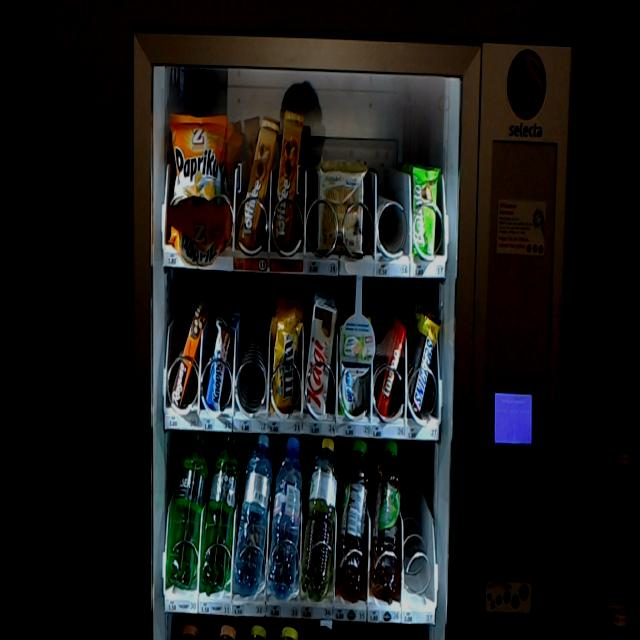balisto_muesli__37g__5000159418546: (408, 161, 440, 263)
berger_mailaenderli____7610404550006: (315, 158, 366, 254)
darwida_sandwich____7610032065170: (338, 315, 374, 425)
evian___50__3068320353500: (268, 429, 303, 599)
kagi___50__7610046000259: (302, 302, 336, 416)
knoppers_riegel____4035800488808: (199, 314, 232, 414)
mnms_gelb__45__40111445: (268, 314, 302, 416)
ragusa___50__76401121: (170, 310, 202, 410)
snickers___50__5000159461122: (409, 313, 438, 418)
toffifee___33__4014400924275: (236, 118, 278, 254), (272, 106, 304, 252)
torino___46__76415272: (373, 322, 406, 416)
valser_classic__50__76404160: (197, 436, 241, 592), (169, 430, 207, 590)
valser_still__50__7610335002575: (234, 429, 273, 592)
volvic_teeminze__50__3057640335648: (336, 434, 371, 597), (369, 437, 401, 598)
zweifel_paprika__90__7610095013002: (166, 107, 232, 257)
